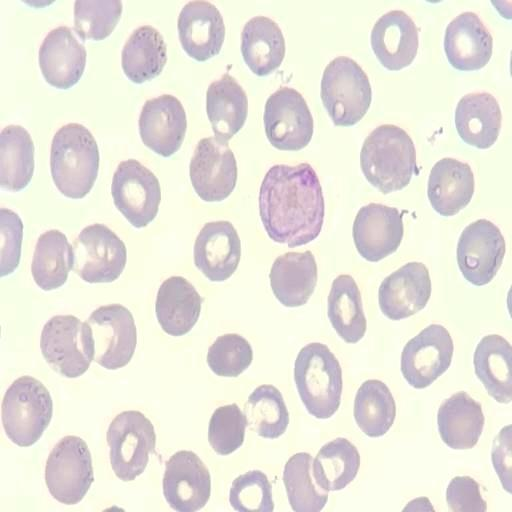Infected: (260, 164, 325, 245)
Uninfected: (74, 305, 138, 369), (63, 220, 126, 283), (359, 124, 416, 192), (1, 376, 53, 448), (49, 123, 98, 197), (293, 343, 341, 417), (320, 56, 370, 125), (47, 435, 95, 504), (107, 412, 155, 481), (43, 313, 93, 379), (455, 218, 504, 284), (400, 324, 451, 387), (111, 160, 159, 226), (377, 261, 429, 320), (263, 87, 312, 149), (189, 137, 236, 201), (370, 10, 419, 70), (138, 94, 186, 155), (38, 26, 85, 88), (352, 204, 403, 261), (161, 452, 210, 511), (443, 10, 492, 69), (156, 272, 203, 333), (193, 221, 240, 280), (205, 72, 247, 138), (33, 229, 76, 293), (268, 251, 317, 307), (177, 1, 224, 59), (326, 274, 366, 341), (426, 157, 473, 214), (454, 91, 501, 148), (436, 392, 483, 448), (473, 334, 512, 401), (282, 453, 327, 511), (121, 25, 166, 82), (240, 16, 284, 74), (313, 437, 359, 491), (353, 379, 395, 436), (243, 384, 287, 438), (0, 124, 34, 191), (207, 404, 246, 454), (206, 333, 251, 376), (74, 0, 120, 41), (229, 470, 273, 511)
